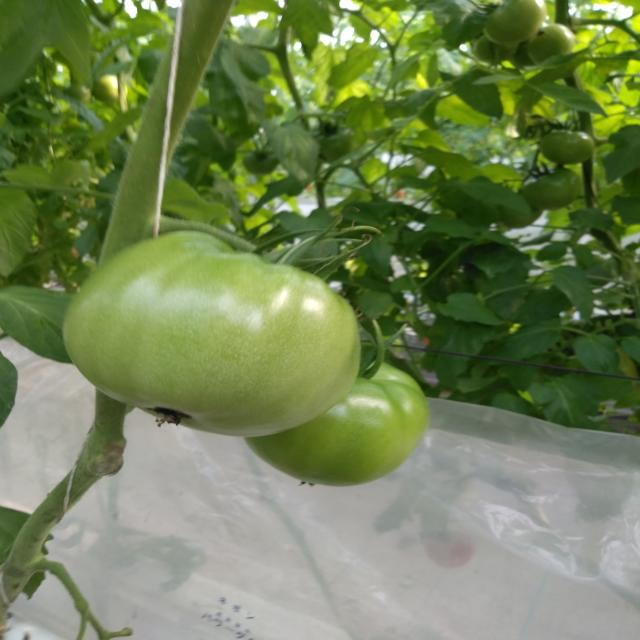yesil: (53, 215, 441, 494)
